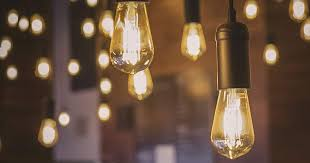bulb: (200, 69, 276, 160), (105, 1, 161, 79), (175, 13, 212, 72), (125, 62, 156, 113)
